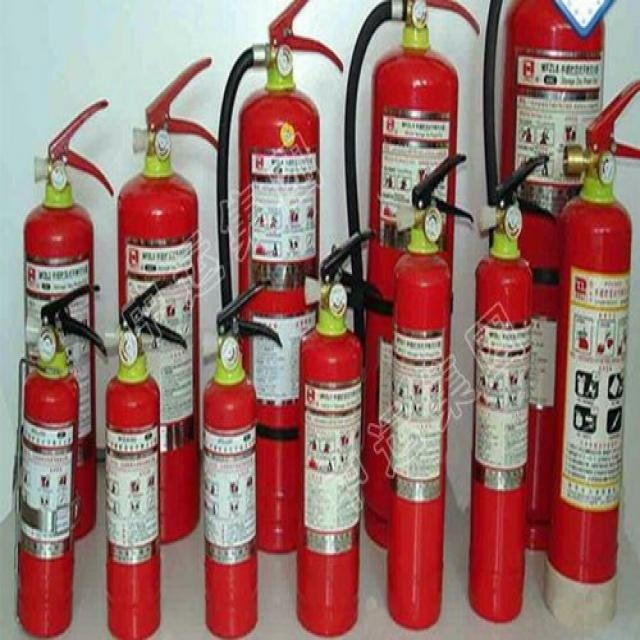fire extinguisher: (15, 1, 638, 636)
